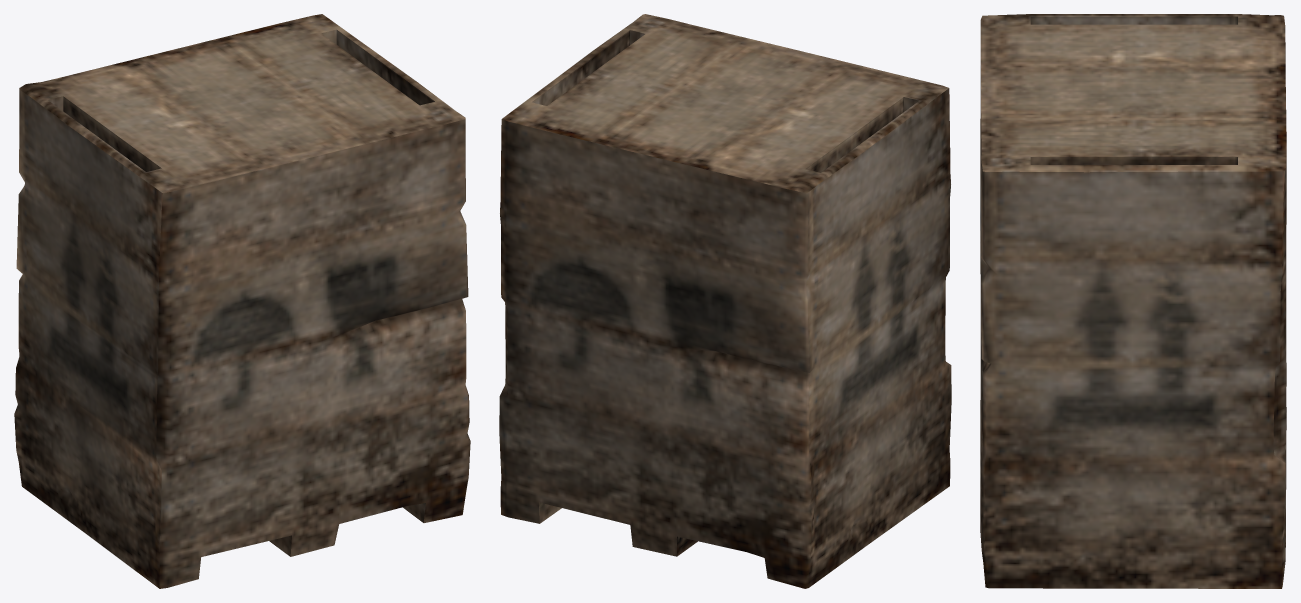
File: SM_Crate01.fbx
The picture shows the model from 3 angles, left to right: view 1: azimuth 30°, elevation 25°; view 2: azimuth 150°, elevation 25°; view 3: azimuth 270°, elevation 25°; orthographic projection. The views are drawn at different scales.
Visible parts, largest first — view 1: SM_Crate01.mo; view 2: SM_Crate01.mo; view 3: SM_Crate01.mo.
Boxes of the visible parts, box(x1,y1,x2,y2) form: SM_Crate01.mo: box(14, 14, 470, 588); SM_Crate01.mo: box(499, 14, 951, 588); SM_Crate01.mo: box(980, 14, 1286, 588).
Bounding box in the file's own units: 101 × 123 × 81.27.
